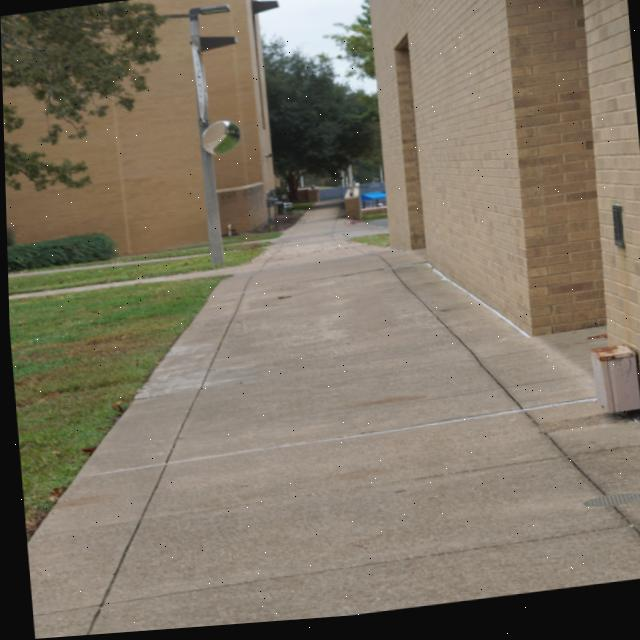Obstacle: (588, 355, 639, 422)
Sidewalk: (24, 213, 640, 639), (7, 268, 245, 300), (6, 257, 207, 279)
